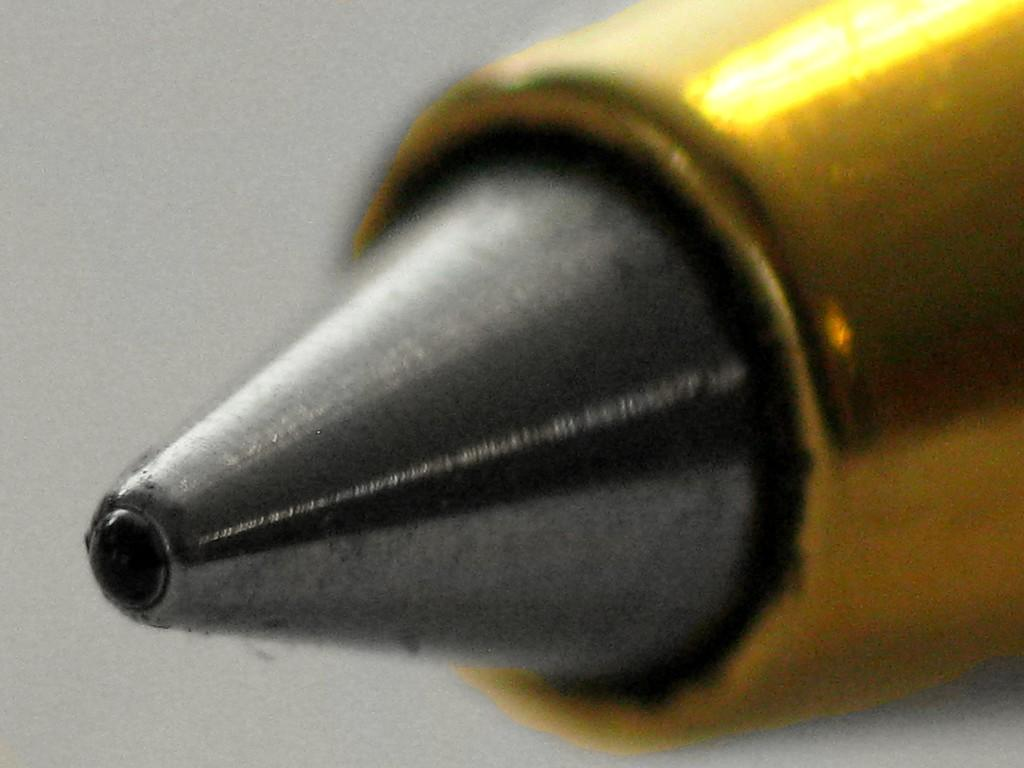pen: (78, 0, 1023, 755)
